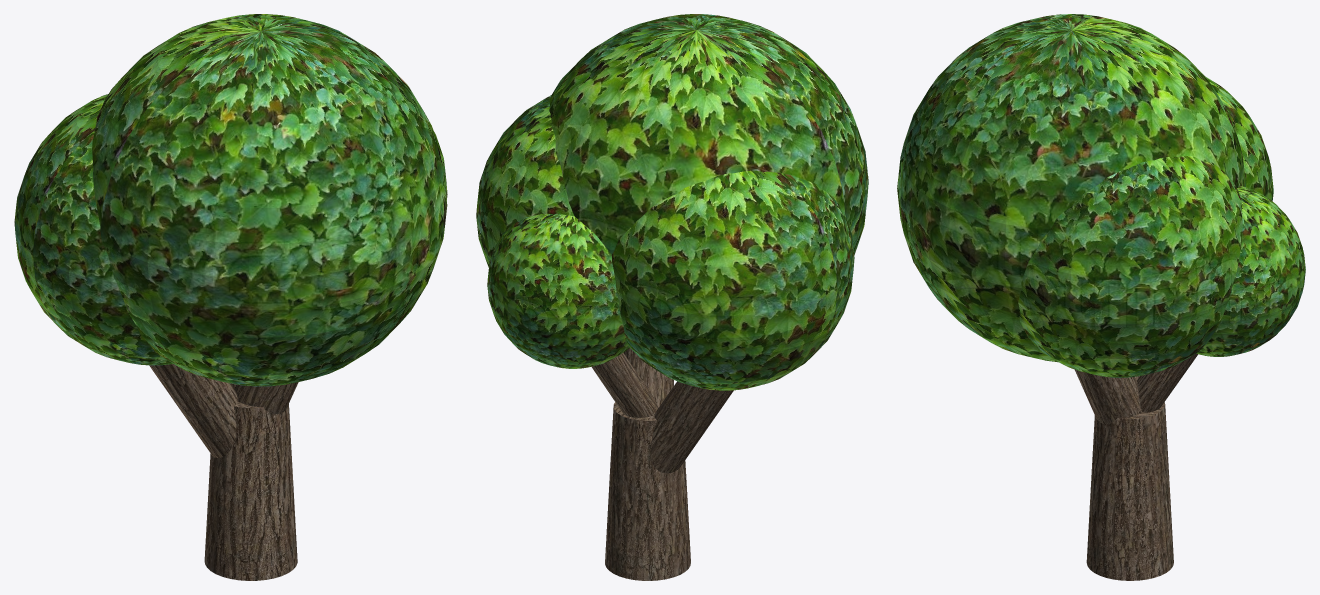
Rendered from happylittleshrub.obj.
The picture shows the model from 3 angles, left to right: view 1: azimuth 30°, elevation 25°; view 2: azimuth 150°, elevation 25°; view 3: azimuth 270°, elevation 25°; orthographic projection. The views are drawn at different scales.
Parts seen in each view (by area): view 1: Sphere, Sphere.002, Cylinder.001, Cylinder, Cylinder.002; view 2: Sphere, Sphere.002, Sphere.001, Cylinder.001, Sphere.003, Cylinder, Cylinder.003, Cylinder.002; view 3: Sphere, Sphere.003, Cylinder.001, Sphere.001, Sphere.002, Cylinder.002, Cylinder.003.
Part boxes in pixels (bbox=[...]): Sphere: bbox=[92, 14, 447, 386]; Sphere.002: bbox=[14, 94, 172, 365]; Cylinder.001: bbox=[204, 402, 297, 580]; Cylinder: bbox=[149, 364, 238, 457]; Cylinder.002: bbox=[234, 382, 298, 414]; Sphere: bbox=[549, 14, 868, 254]; Sphere.002: bbox=[611, 170, 854, 390]; Sphere.001: bbox=[487, 214, 629, 368]; Cylinder.001: bbox=[605, 402, 690, 580]; Sphere.003: bbox=[476, 95, 574, 267]; Cylinder: bbox=[650, 381, 733, 473]; Cylinder.003: bbox=[591, 353, 658, 417]; Cylinder.002: bbox=[623, 348, 673, 407]; Sphere: bbox=[897, 14, 1245, 362]; Sphere.003: bbox=[1018, 156, 1242, 377]; Cylinder.001: bbox=[1086, 402, 1173, 580]; Sphere.001: bbox=[1196, 186, 1305, 356]; Sphere.002: bbox=[1206, 77, 1273, 200]; Cylinder.002: bbox=[1075, 369, 1142, 423]; Cylinder.003: bbox=[1137, 353, 1197, 412].
Bounding box in the file's own units: 1.19 × 1.65 × 1.17.
2 materials, 2 textured.
